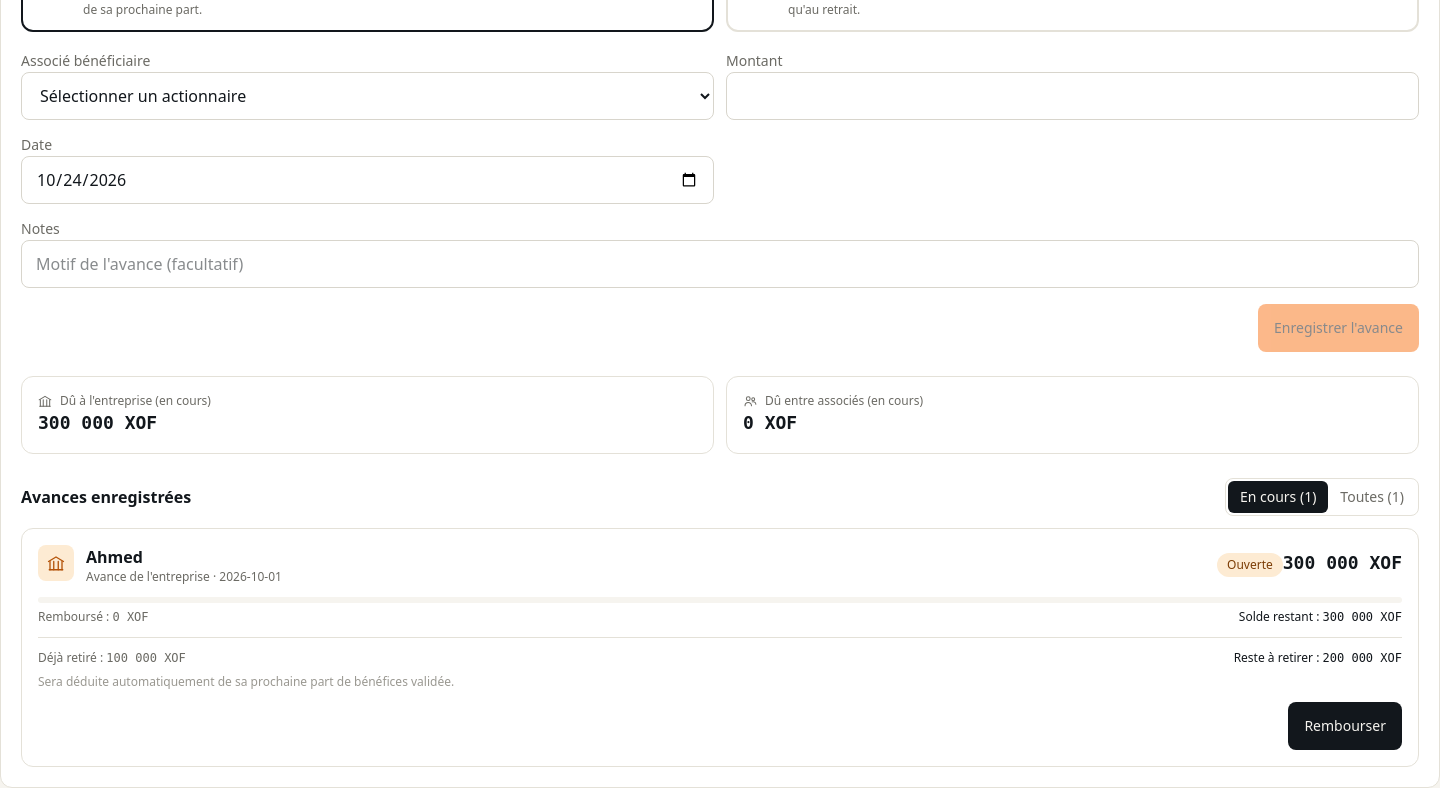
Scenario: ShareholderAdvancesPanel › asks for an account only for the part really withdrawn
(page scrolled)
Click the button with test id "advance-repay-1". click: (1345, 726)
box: [1288,702,1402,750]
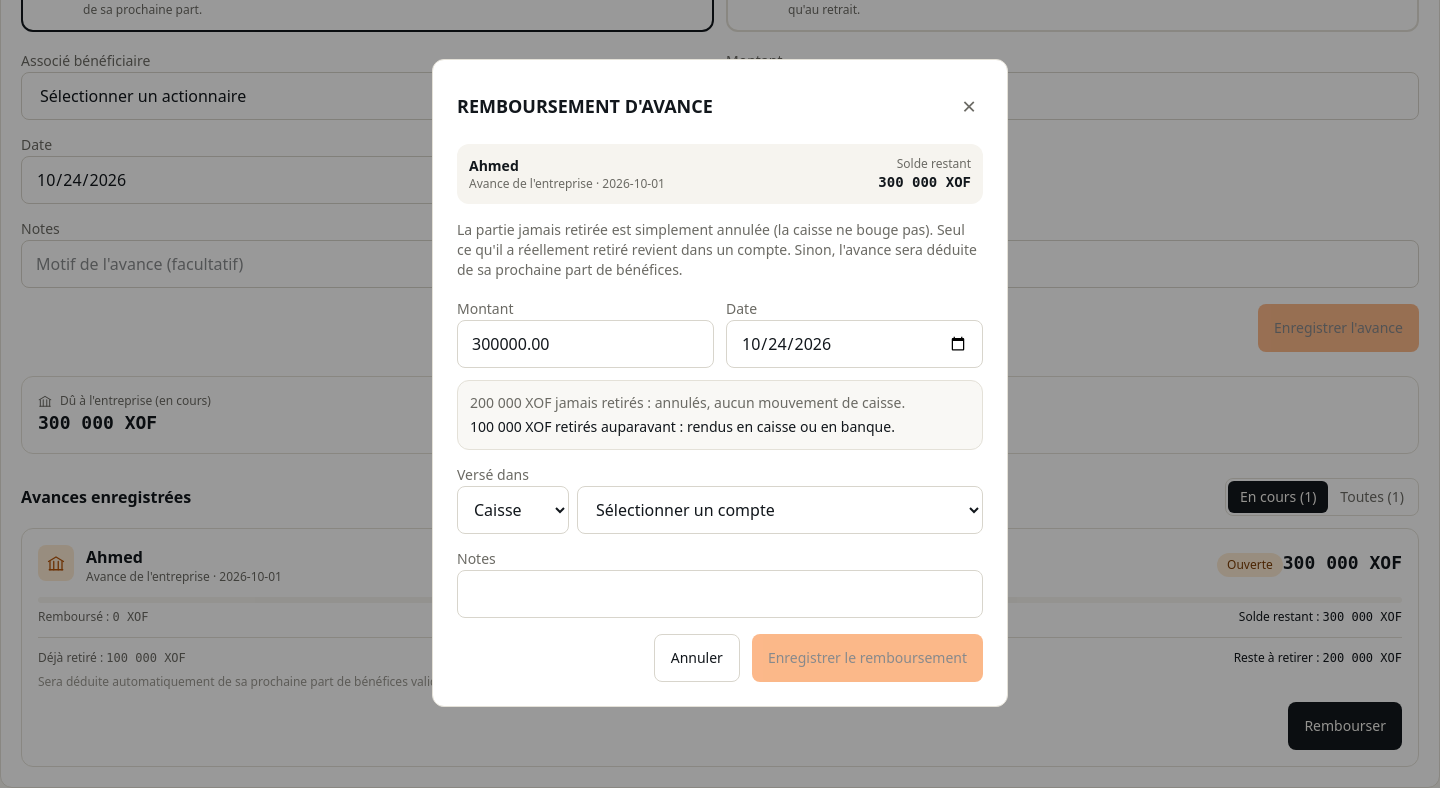
Expected: the element with test id "repay-split" shows "200 000", [470,393,905,412]
Expected: the element with test id "repay-split" shows "100 000", [470,417,895,436]
Expected: the dropdown with test id "repay-account" is shown, [577,486,983,534]
